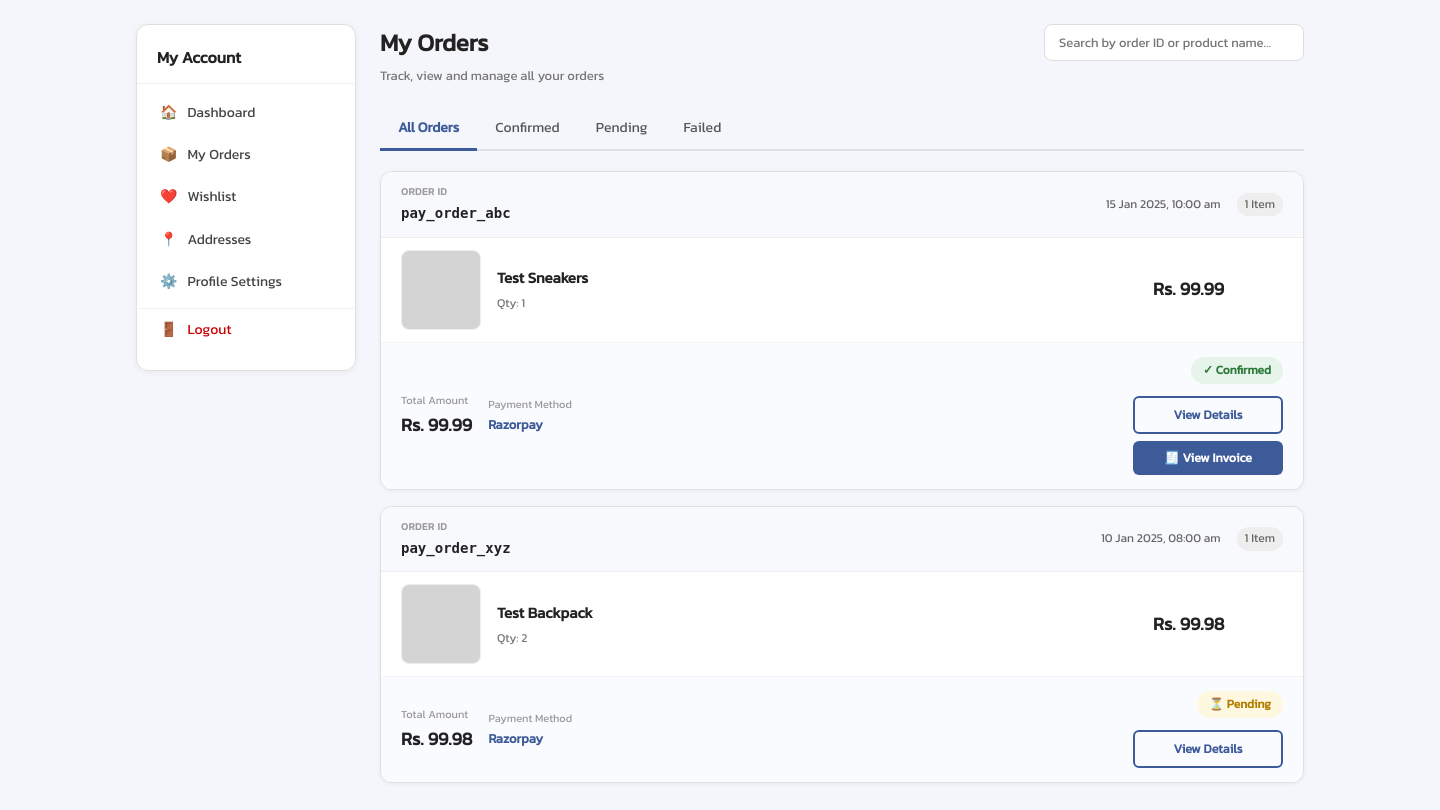
Scenario: Orders page › search shows "No orders matching" message when no results
The image size is (1440, 810).
Expected: the text "Test Sneakers" is shown, [497,266,588,289]
In the search field: (1174, 42) [1044,24,1304,61], type "zzznomatch"
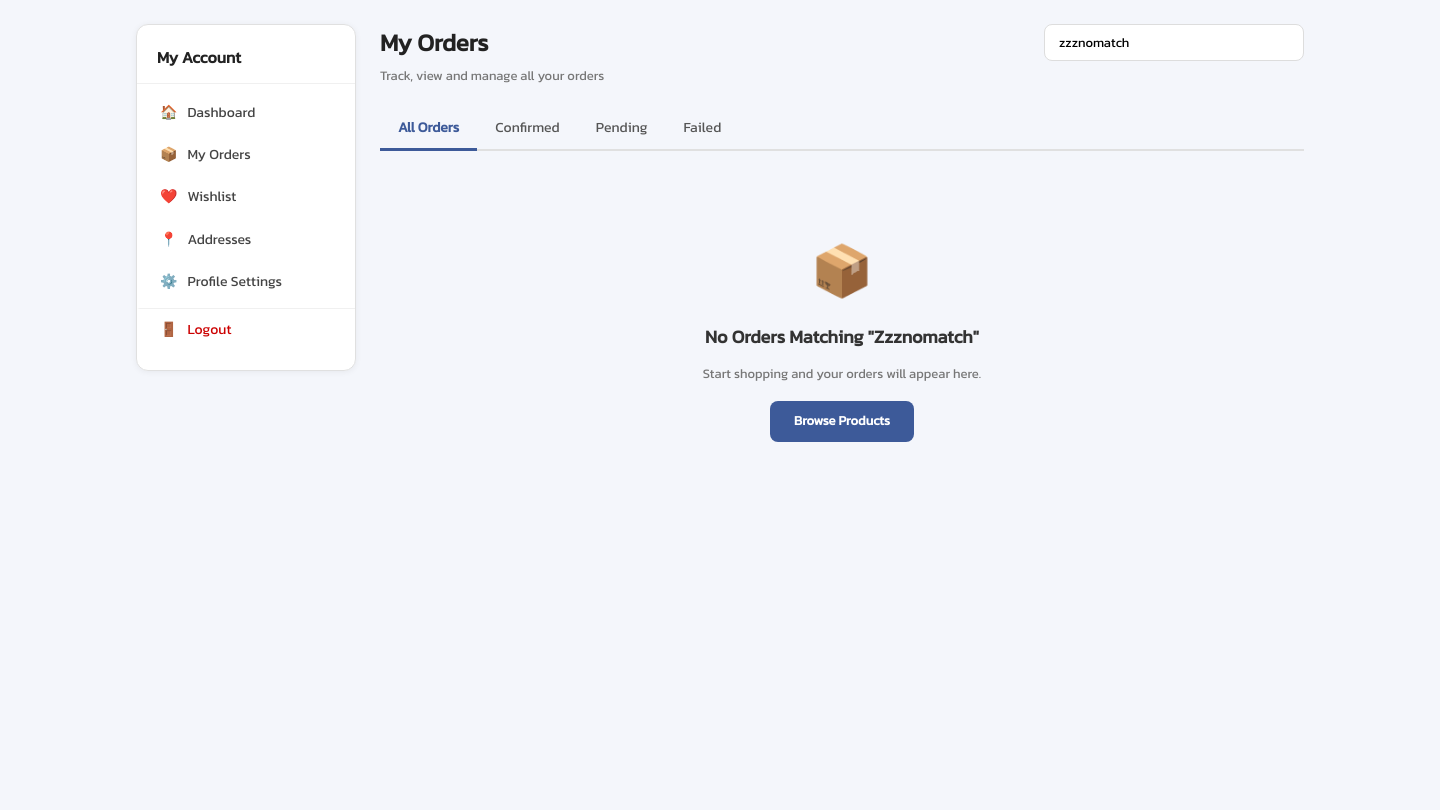
Now the heading "No orders matching \"zzznomatch\"" is shown, box [705,323,979,352]
